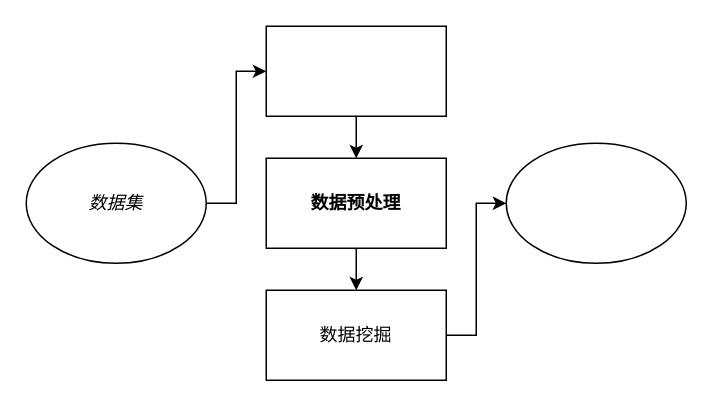
Image size: 713x407. Some labels were removed from this diagram. Each missing label, with the centre of its shape:
"前置定义" belongs at point (355, 70).
"研究成果" belongs at point (595, 202).
